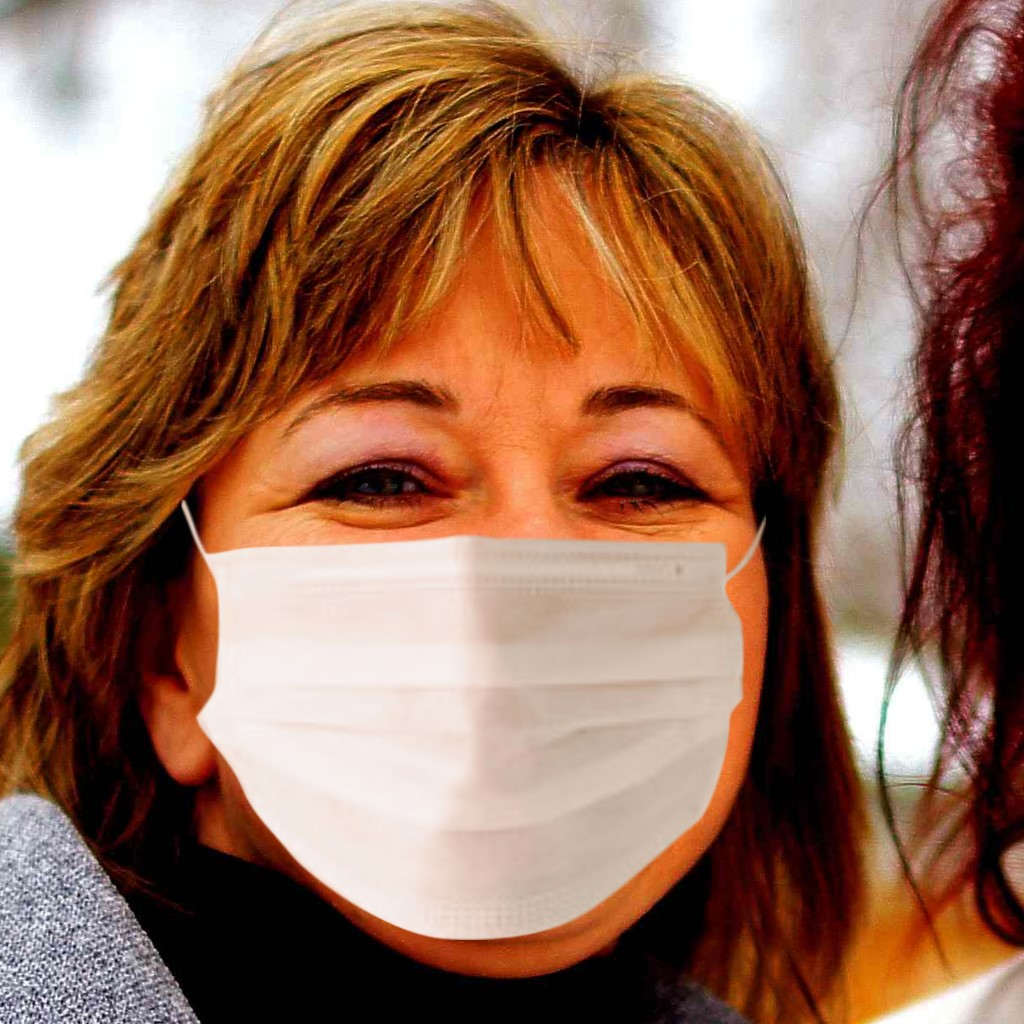con_mascara: (172, 105, 765, 987)
